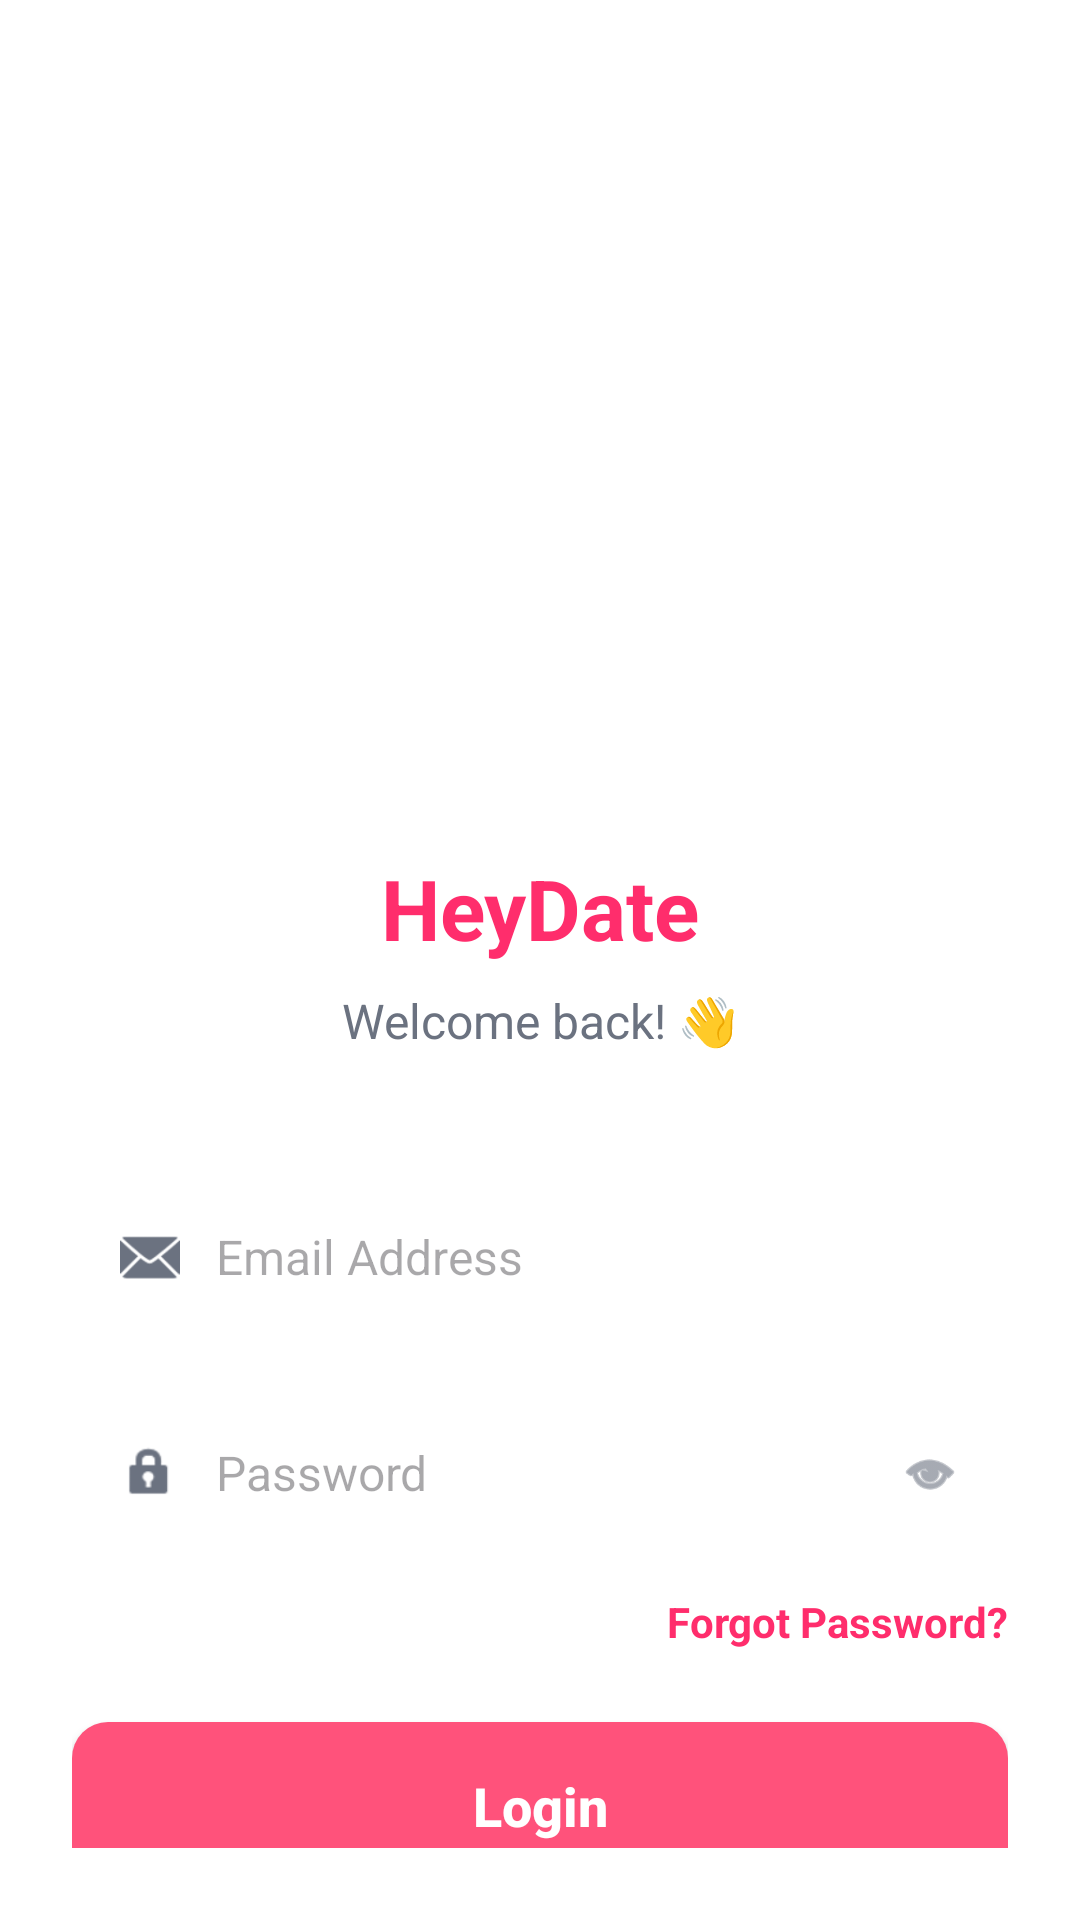

Icons on this 1080px x 1920px Android screen, each with the point to tap as [x,y]:
lock idle: [148,1471]
view: [930,1474]
